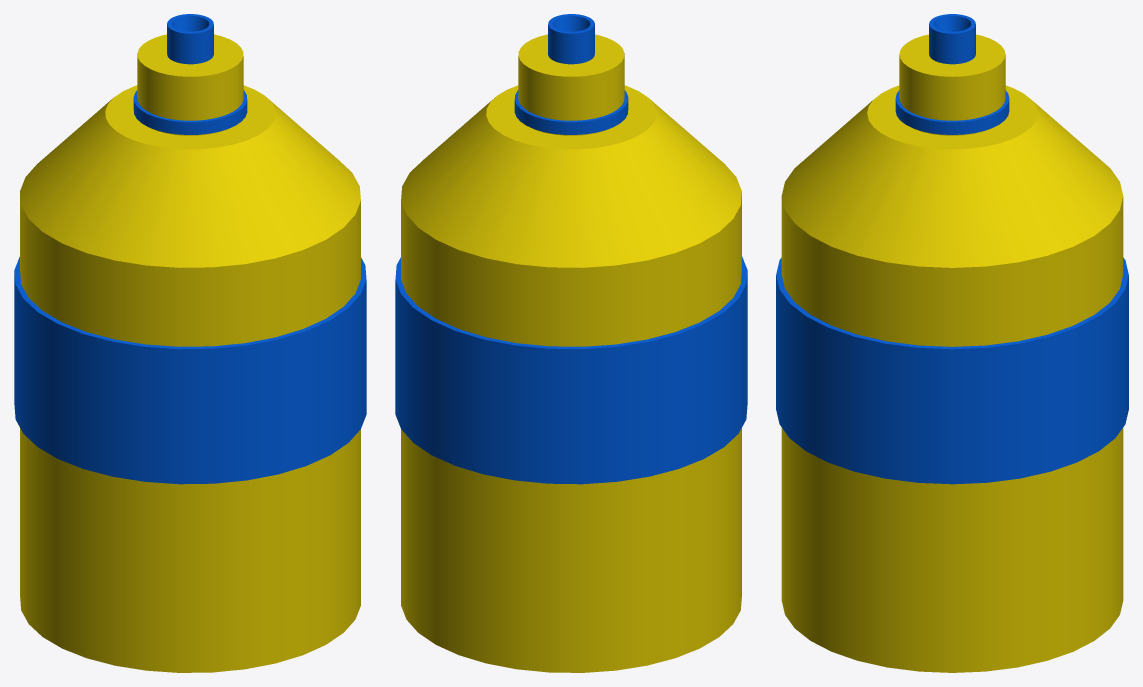
Rendered from SM_Cleaner_Bottle_A.fbx.
3 renders of one model, left to right at view 1: azimuth 30°, elevation 25°; view 2: azimuth 150°, elevation 25°; view 3: azimuth 270°, elevation 25°, orthographic.
Parts seen in each view (by area): view 1: Cylinder.017, Cylinder.018, Cylinder.019, Cylinder.020; view 2: Cylinder.017, Cylinder.018, Cylinder.019, Cylinder.020; view 3: Cylinder.017, Cylinder.018, Cylinder.019, Cylinder.020.
Part boxes in pixels (x1=…): Cylinder.017: x1=20, y1=34, x2=360, y2=672; Cylinder.018: x1=14, y1=256, x2=366, y2=484; Cylinder.019: x1=167, y1=14, x2=213, y2=64; Cylinder.020: x1=133, y1=90, x2=247, y2=134; Cylinder.017: x1=401, y1=34, x2=741, y2=672; Cylinder.018: x1=395, y1=256, x2=747, y2=484; Cylinder.019: x1=548, y1=14, x2=594, y2=64; Cylinder.020: x1=514, y1=90, x2=628, y2=134; Cylinder.017: x1=781, y1=34, x2=1123, y2=672; Cylinder.018: x1=776, y1=257, x2=1128, y2=484; Cylinder.019: x1=929, y1=14, x2=975, y2=64; Cylinder.020: x1=895, y1=90, x2=1009, y2=134.
Size of the model in its own units: 53.66 by 96.84 by 53.66.
